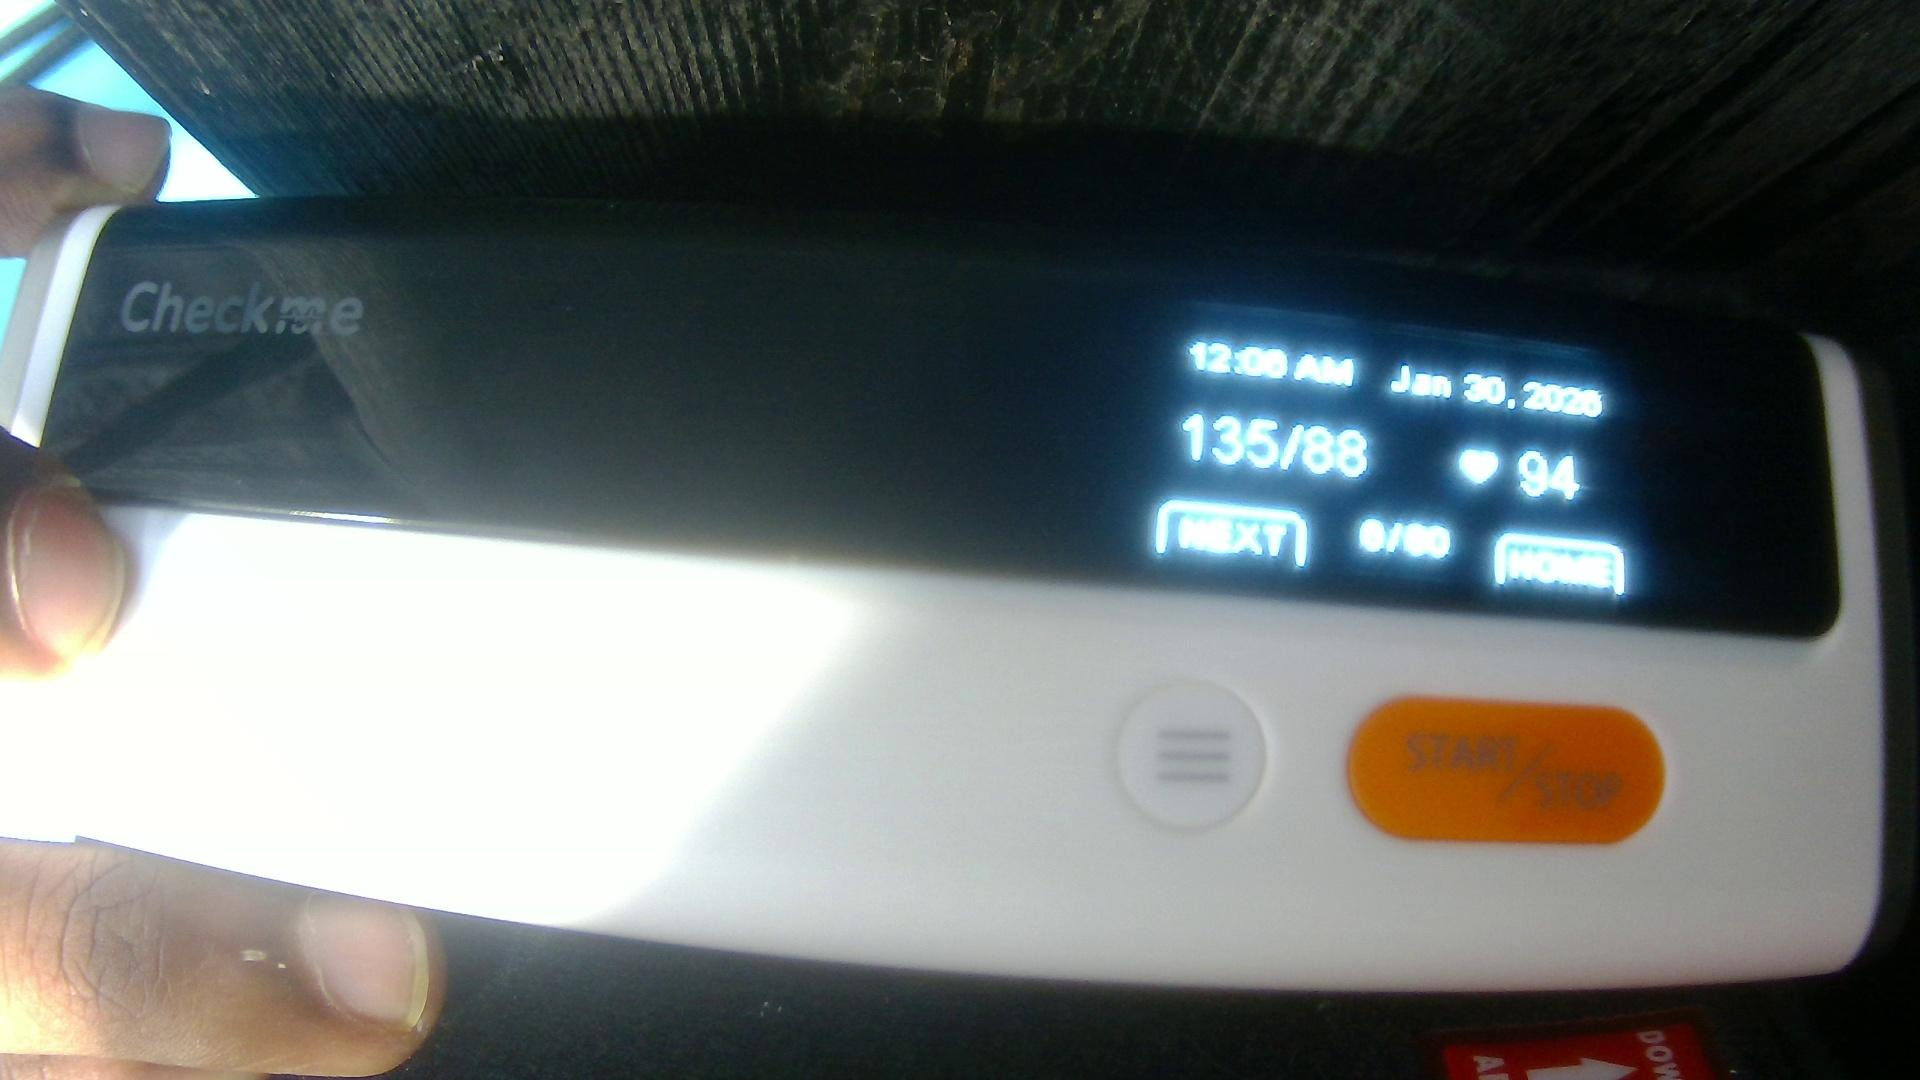DISPLAY: (104, 216, 1837, 640)
